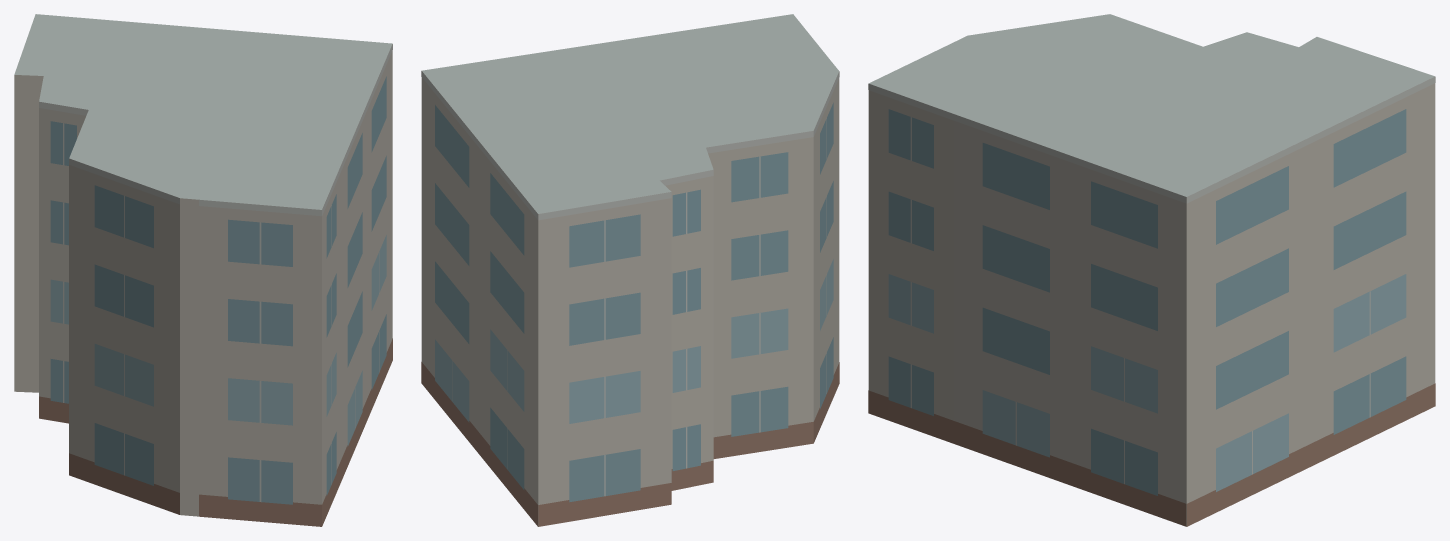
Rendered from survey-upis-32976049.glb.
3 views of the same model, side by side, from view 1: azimuth 30°, elevation 25°; view 2: azimuth 150°, elevation 25°; view 3: azimuth 270°, elevation 25° (orthographic). The views are drawn at different scales.
Parts seen in each view (by area): view 1: survey-upis-32976049.tmp; view 2: survey-upis-32976049.tmp; view 3: survey-upis-32976049.tmp.
Boxes of the visible parts, x1=… form: survey-upis-32976049.tmp: x1=14, y1=14, x2=392, y2=526; survey-upis-32976049.tmp: x1=421, y1=14, x2=839, y2=526; survey-upis-32976049.tmp: x1=868, y1=14, x2=1435, y2=526.
Size of the model in its own units: 14.53 by 12.2 by 19.02.
